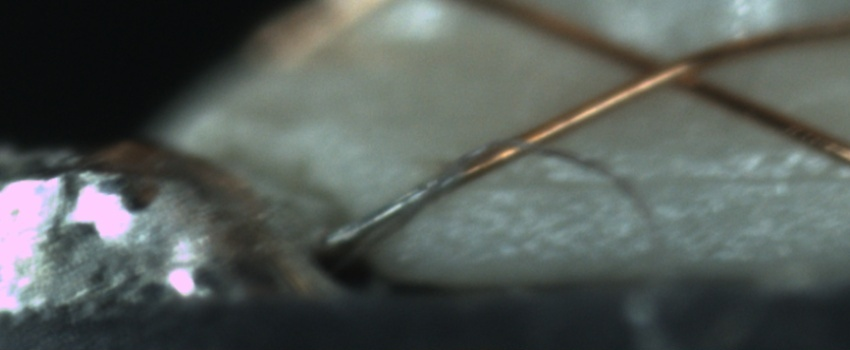CL: (611, 38, 715, 101)
DL: (453, 149, 850, 213)
TS: (317, 163, 464, 255)
